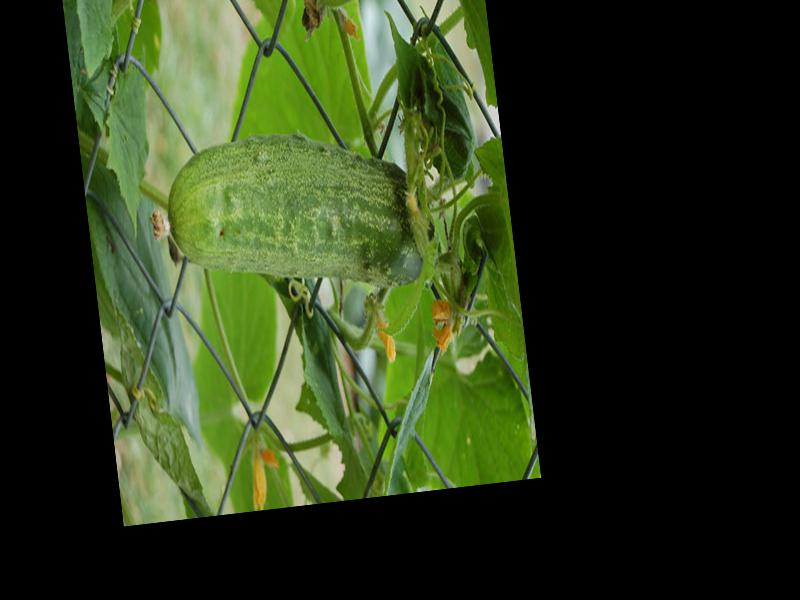Cucumber: (145, 121, 437, 309)
